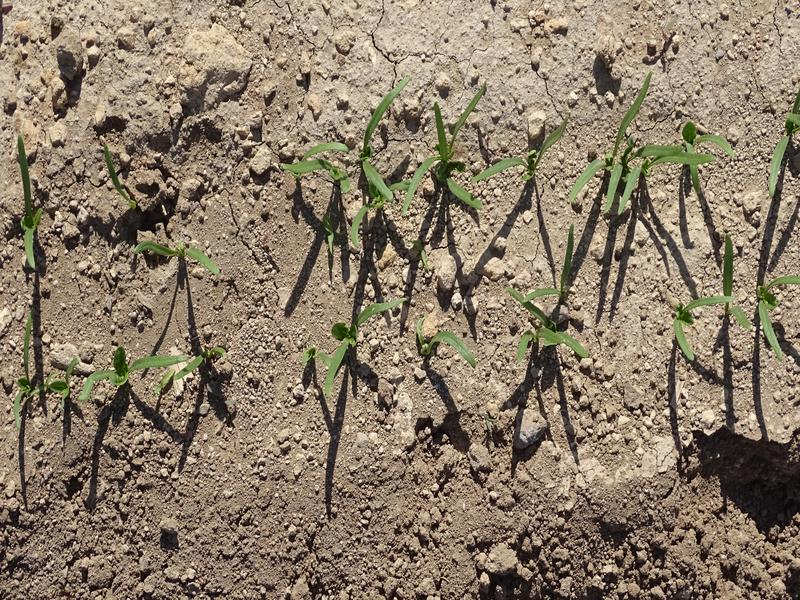Espinaca: (298, 96, 563, 244), (582, 84, 733, 220), (664, 242, 800, 373), (312, 288, 407, 403), (76, 335, 221, 405), (505, 278, 585, 360), (14, 132, 47, 276), (411, 320, 485, 371), (131, 234, 218, 277), (11, 308, 40, 431), (768, 98, 800, 195)
